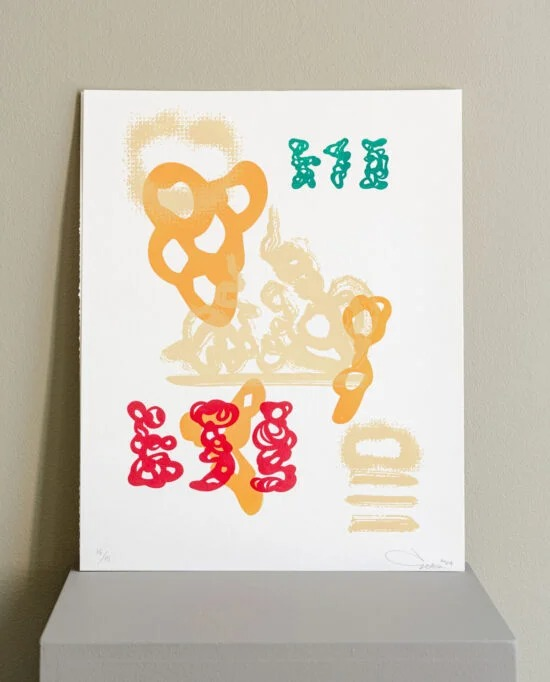painting: (77, 88, 466, 571)
